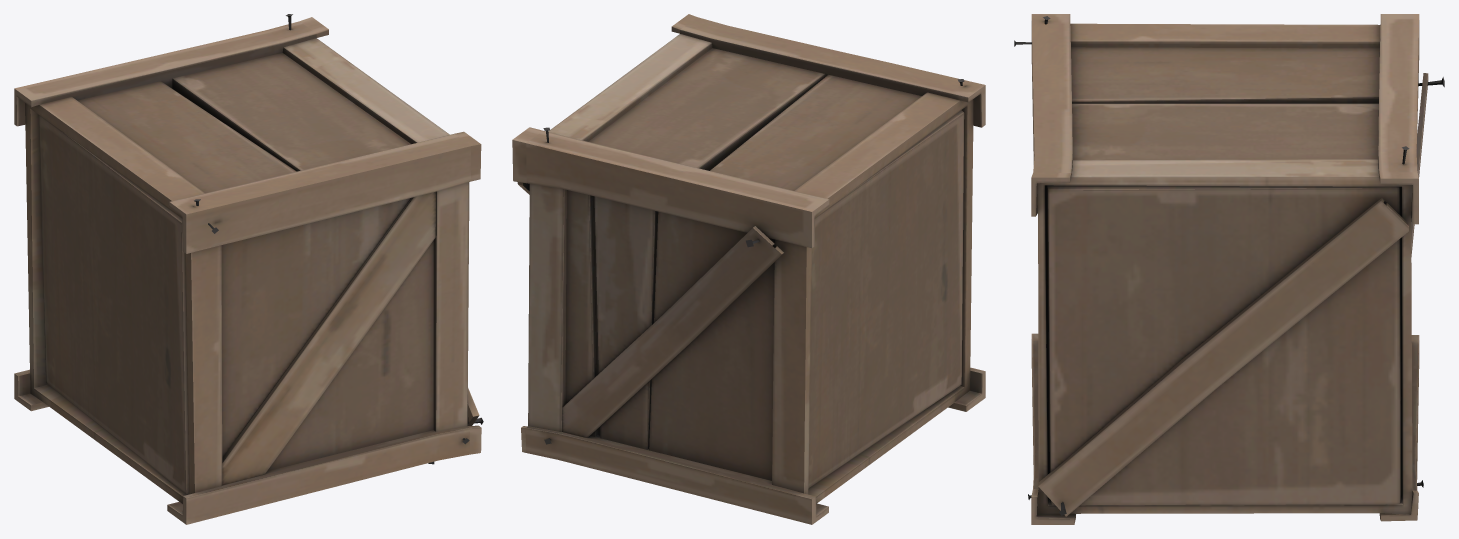
Rendered from props_hydro_barrel_crate_half.glb.
3 renders of one model, left to right at view 1: azimuth 30°, elevation 25°; view 2: azimuth 150°, elevation 25°; view 3: azimuth 270°, elevation 25°, orthographic. The views are drawn at different scales.
Visible parts, largest first — view 1: models/props_hydro/barrel_crate_half; view 2: models/props_hydro/barrel_crate_half; view 3: models/props_hydro/barrel_crate_half.
Boxes of the visible parts, left/top/right/bottom form: models/props_hydro/barrel_crate_half: left=14, top=14, right=483, bottom=524; models/props_hydro/barrel_crate_half: left=512, top=14, right=985, bottom=524; models/props_hydro/barrel_crate_half: left=1014, top=14, right=1444, bottom=524.
Bounding box in the file's own units: 76.94 × 79.68 × 82.32.
Materials: 1 (1 with a texture image).
